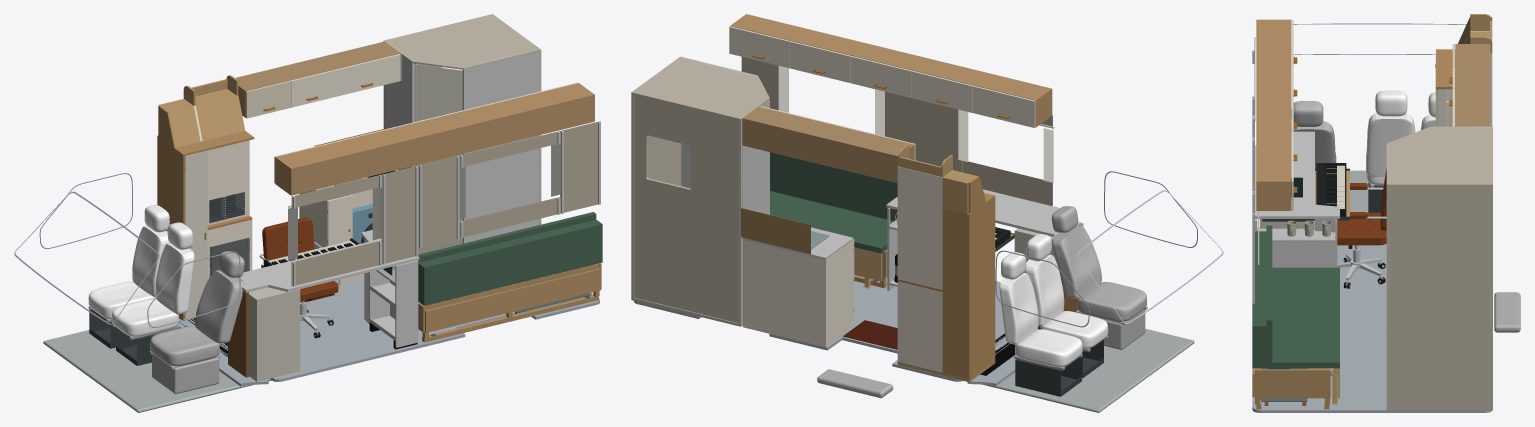
The model's file is rv-a27-clean-bath.glb.
3 views of the same model, side by side, from view 1: azimuth 30°, elevation 25°; view 2: azimuth 150°, elevation 25°; view 3: azimuth 270°, elevation 25° (orthographic). The views are drawn at different scales.
Parts seen in each view (by area): view 1: structure (×9), cab (×4), overhead (×2), wet (×2), office (×3), sofa (×2), cabinet (×2), IC_DoorLeaf, BD_Screen, OH_K01_Door, SB_Infill, CC_Back (+4 smaller); view 2: structure (×7), wet (×2), cab (×4), overhead (×2), cabinet (×2), SB_Infill, sofa, office, OH_L01_Door, OH_L03_Door, OH_L02_Door, OH_L04_Door (+2 smaller); view 3: wet (×2), sofa (×2), cab (×3), overhead (×2), structure (×4), office (×3), cabinet (×2), CC_Seat, SB_Infill, KT_MidiBody, CC_StarBase, KT_BlackKeys (+4 smaller).
Boxes of the visible parts, box(x1,y1,x2,y2) form: structure (×9): box(112, 89, 600, 394); cab (×4): box(14, 173, 599, 412); overhead (×2): box(235, 41, 594, 195); wet (×2): box(313, 14, 541, 243); office (×3): box(228, 230, 419, 381); sofa (×2): box(418, 219, 602, 342); cabinet (×2): box(157, 75, 254, 320); IC_DoorLeaf: box(185, 150, 207, 320); BD_Screen: box(416, 64, 462, 254); OH_K01_Door: box(332, 54, 400, 97); SB_Infill: box(417, 212, 596, 262); CC_Back: box(262, 217, 314, 260); structure (×7): box(741, 57, 1147, 398); wet (×2): box(631, 56, 853, 326); cab (×4): box(634, 171, 1223, 412); overhead (×2): box(730, 14, 1052, 183); cabinet (×2): box(897, 144, 995, 382); SB_Infill: box(770, 152, 897, 220); sofa: box(770, 191, 893, 253); office: box(886, 189, 1081, 290); OH_L01_Door: box(973, 85, 1035, 127); OH_L03_Door: box(850, 56, 912, 97); OH_L02_Door: box(911, 71, 973, 112); OH_L04_Door: box(789, 41, 850, 82); wet (×2): box(1386, 126, 1492, 410); sofa (×2): box(1252, 231, 1339, 409); cab (×3): box(1252, 23, 1492, 412); overhead (×2): box(1256, 19, 1490, 210); structure (×4): box(1252, 31, 1520, 332); office (×3): box(1255, 131, 1339, 267); cabinet (×2): box(1436, 14, 1492, 126); CC_Seat: box(1337, 212, 1386, 245); SB_Infill: box(1266, 225, 1272, 362); KT_MidiBody: box(1316, 163, 1346, 216); CC_StarBase: box(1337, 254, 1381, 280); KT_BlackKeys: box(1326, 165, 1336, 206).
Size of what is drawn, in the model's own units: 4.92 by 2.29 by 2.14.
